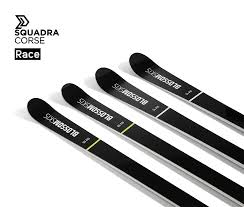skis: (27, 83, 244, 207), (94, 52, 244, 168)
